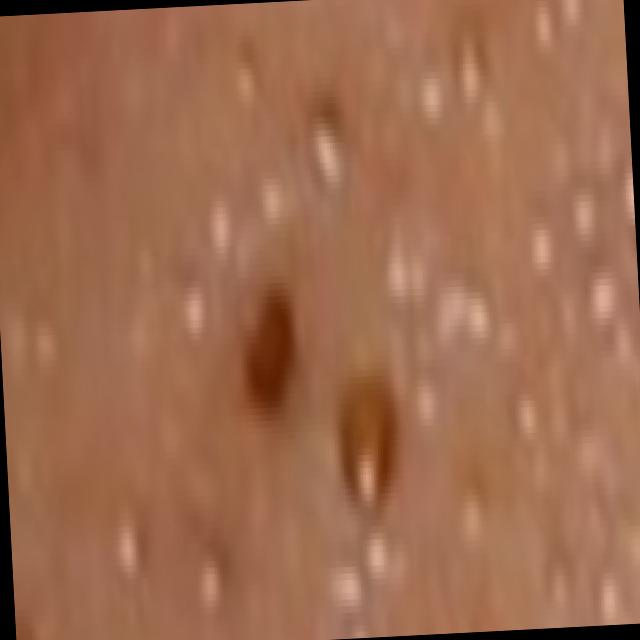blackhead: (334, 370, 401, 528), (238, 280, 305, 434)
